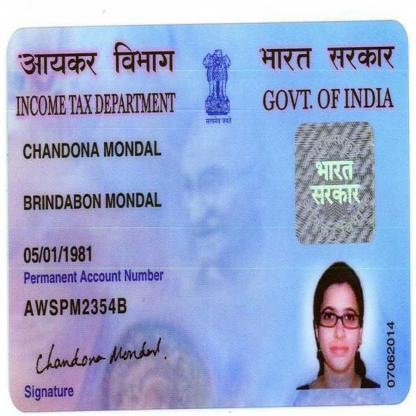pan_card: (5, 13, 413, 412)
